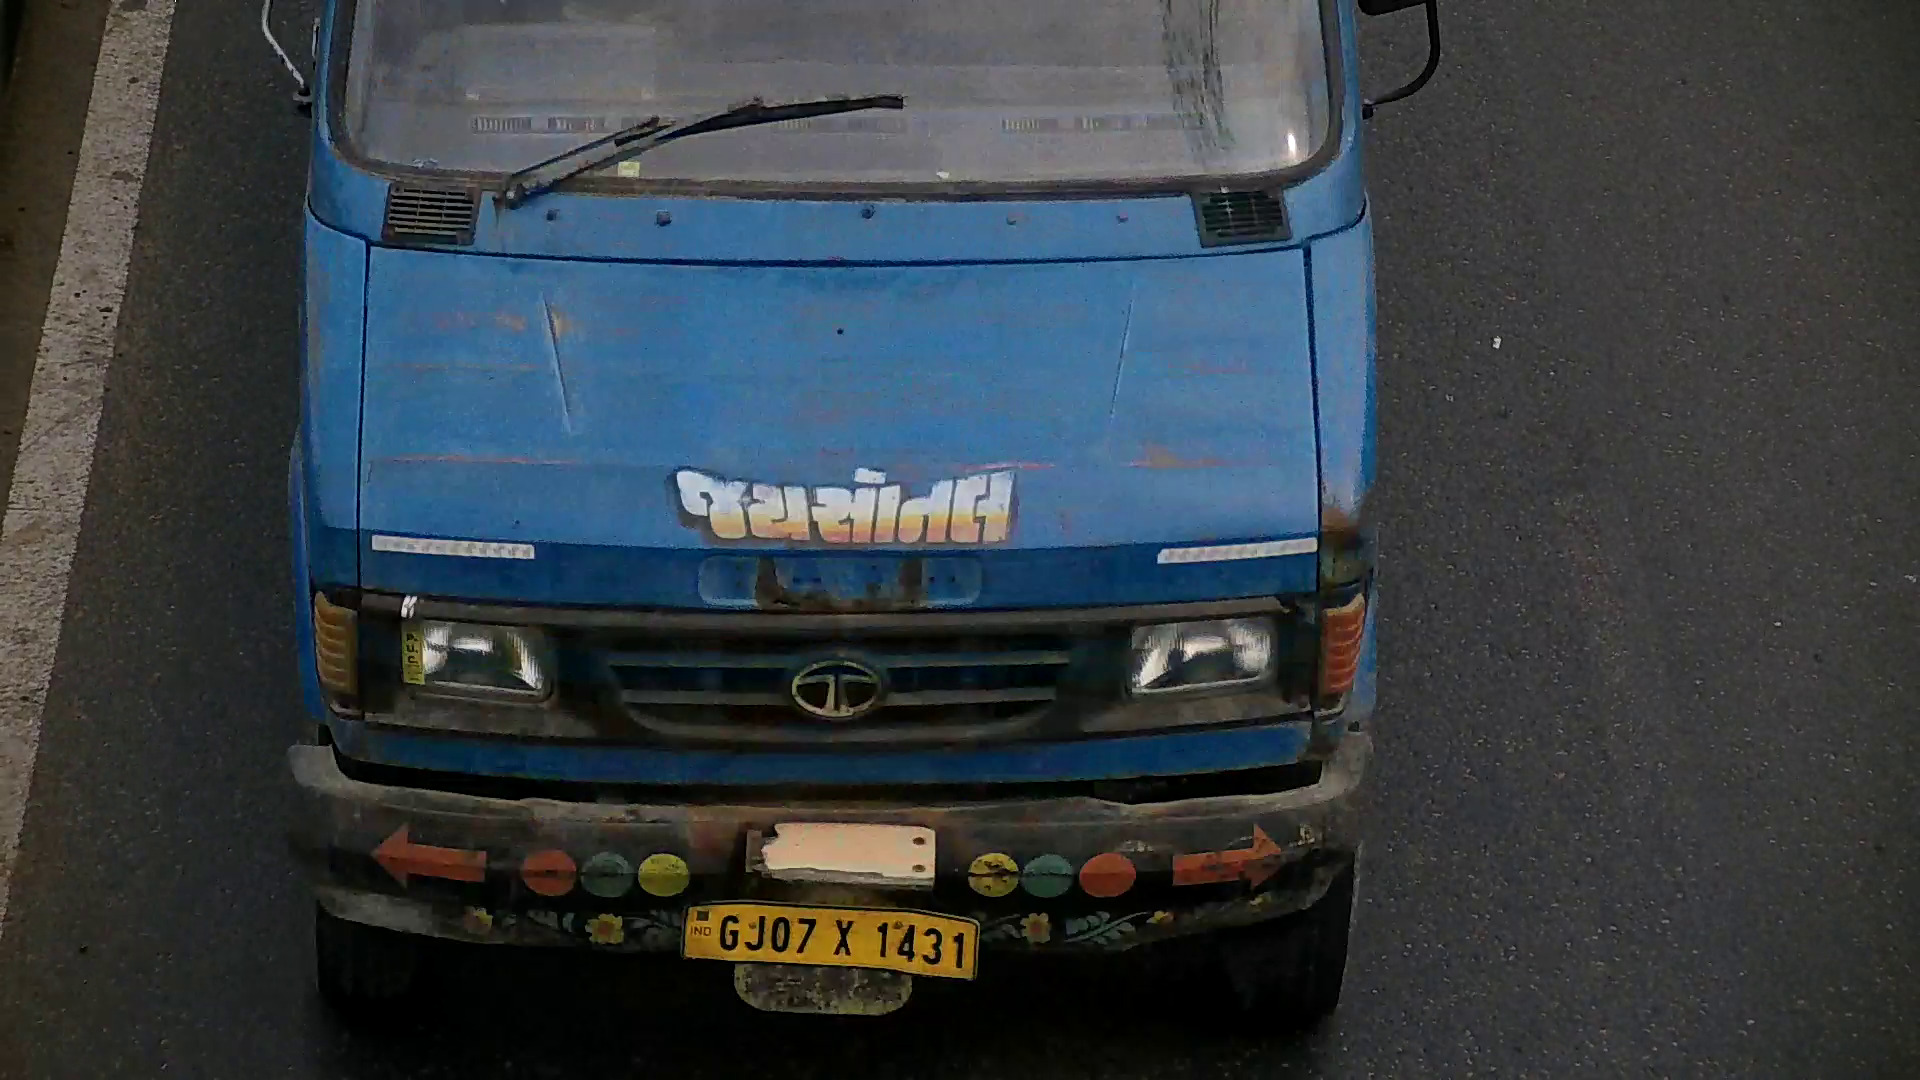numberplate: (675, 895, 984, 983)
